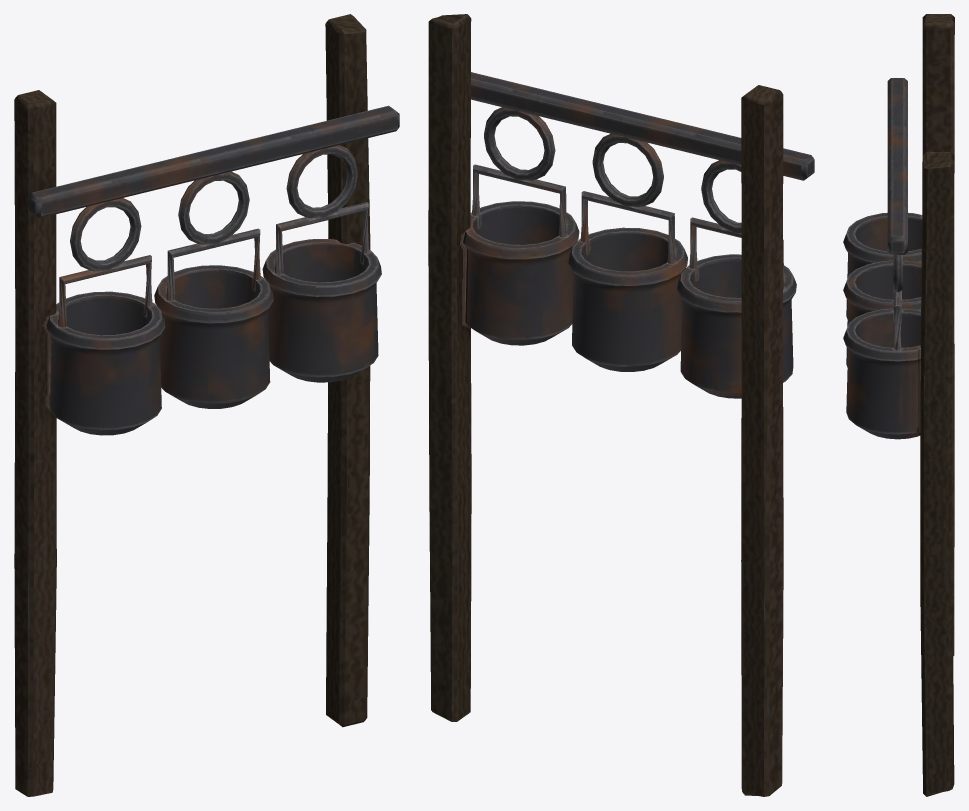
Rendered from pot_rack.glb.
The picture shows the model from 3 angles, left to right: view 1: azimuth 30°, elevation 25°; view 2: azimuth 150°, elevation 25°; view 3: azimuth 270°, elevation 25°; orthographic projection. The views are drawn at different scales.
Visible parts, largest first — view 1: pot_rack; view 2: pot_rack; view 3: pot_rack.
Part boxes in pixels (bbox=[...]): pot_rack: bbox=[14, 14, 399, 796]; pot_rack: bbox=[428, 14, 814, 796]; pot_rack: bbox=[843, 14, 954, 796].
Size of the model in its own units: 0.84 by 1.54 by 0.2454.
Materials: 1 (1 with a texture image).
